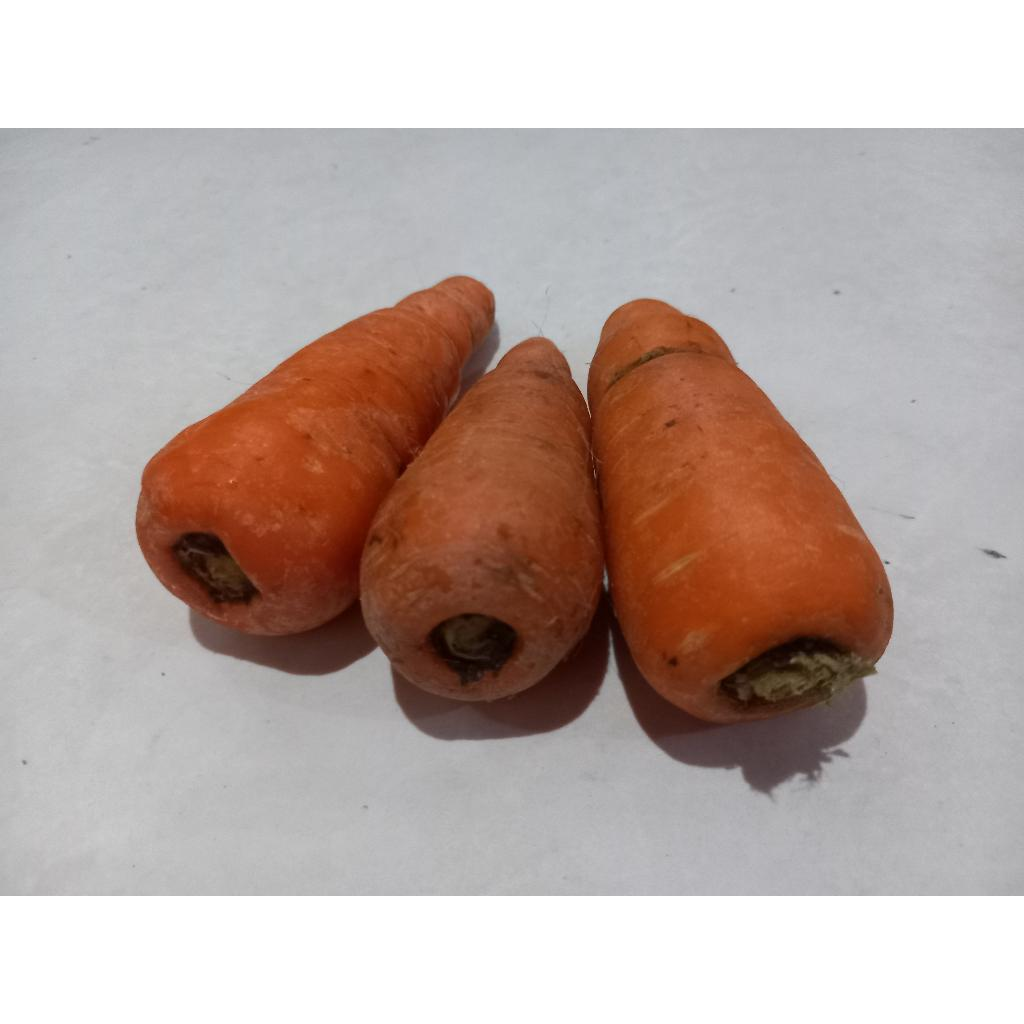carrot: (588, 300, 892, 722), (136, 276, 494, 634), (360, 338, 604, 700)
